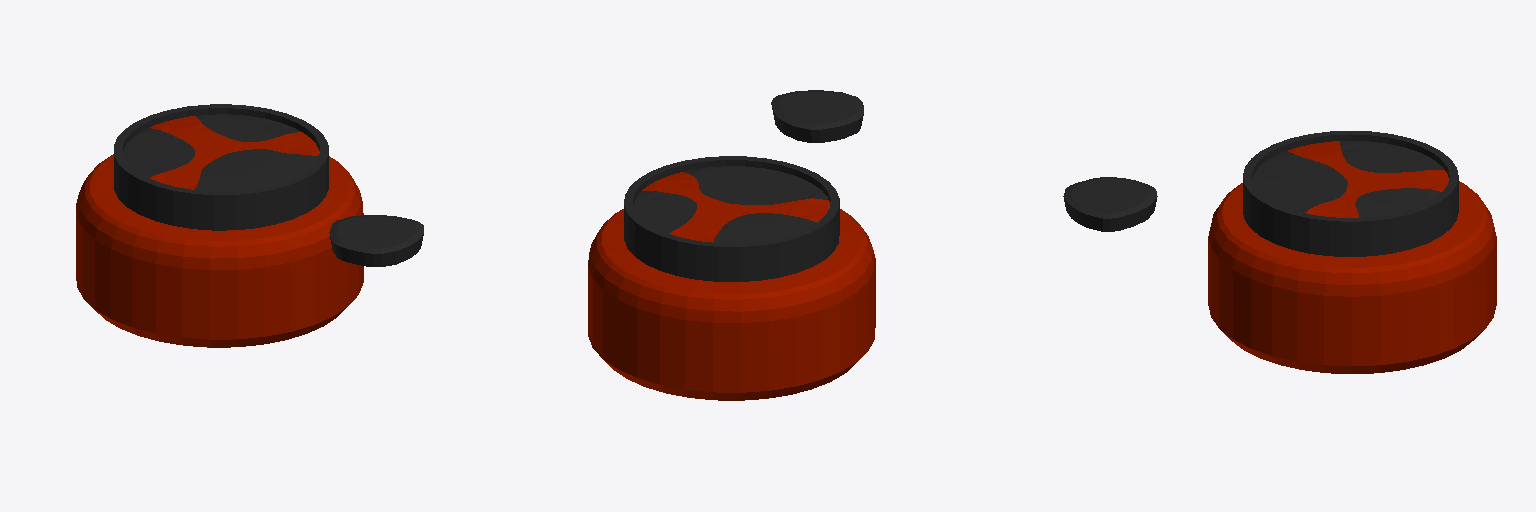
The model's file is BossBegomanPlanet.obj.
The picture shows the model from 3 angles: view 1: azimuth 30°, elevation 25°; view 2: azimuth 150°, elevation 25°; view 3: azimuth 270°, elevation 25°; orthographic projection.
Visible parts, largest first — view 1: BossBegomanPlanetCollision; view 2: BossBegomanPlanetCollision; view 3: BossBegomanPlanetCollision.
Boxes of the visible parts, x1=… form: BossBegomanPlanetCollision: x1=76, y1=104, x2=423, y2=347; BossBegomanPlanetCollision: x1=588, y1=90, x2=875, y2=400; BossBegomanPlanetCollision: x1=1063, y1=131, x2=1496, y2=373.
Bounding box in the file's own units: 3198 × 1962 × 4807.